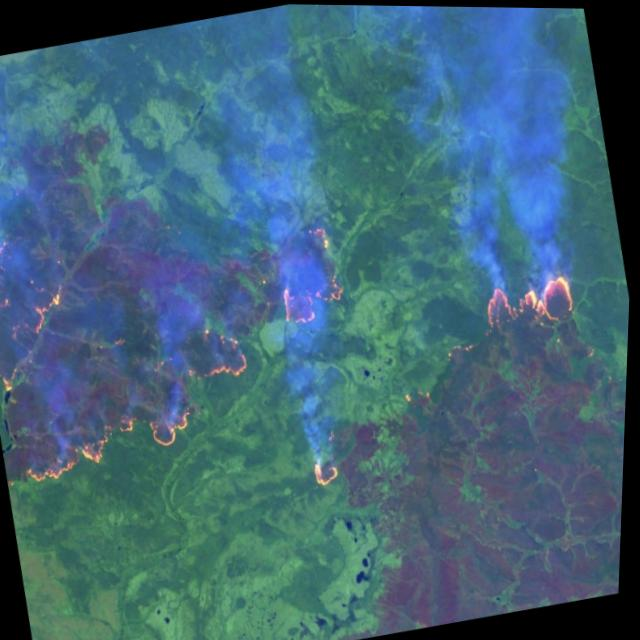fire: (0, 176, 397, 554), (470, 248, 598, 345)
